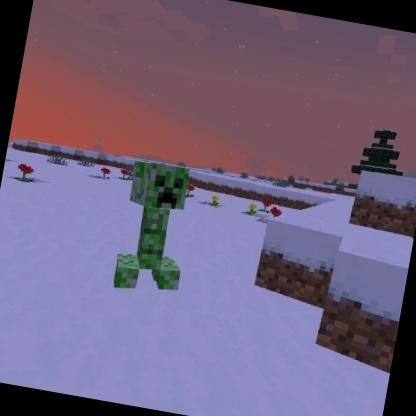creeper: (108, 154, 205, 302)
